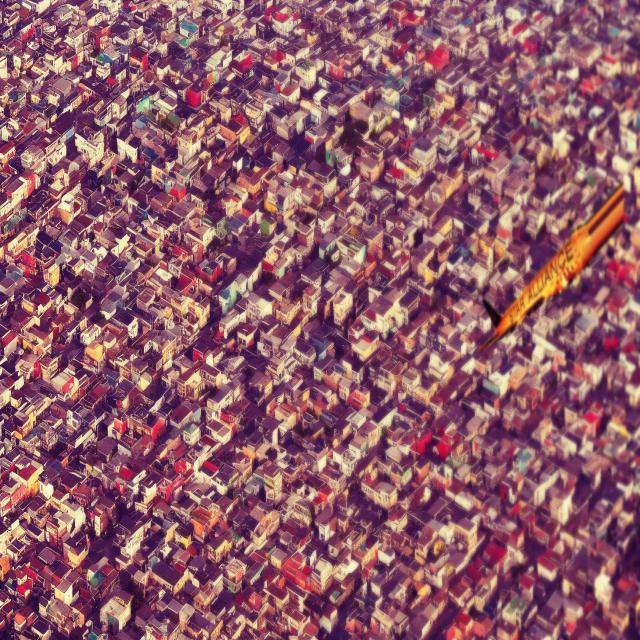airplane: (476, 182, 626, 354)
